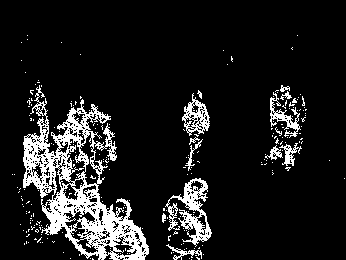person: (22, 134, 65, 233), (164, 177, 212, 258), (59, 183, 103, 259), (80, 100, 119, 184), (271, 84, 305, 171), (104, 197, 149, 260), (182, 90, 209, 168), (26, 81, 51, 143)
